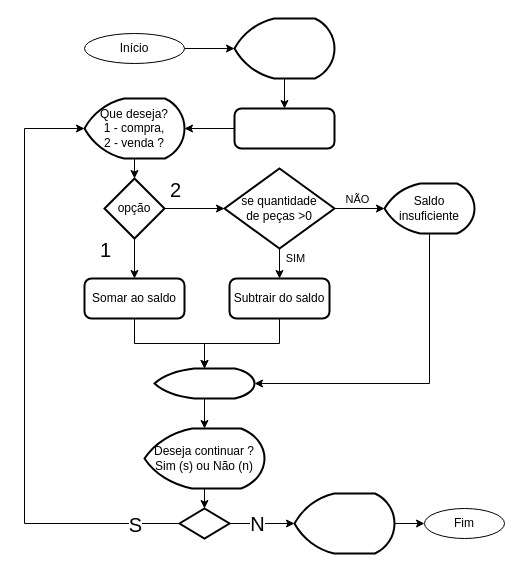
This 522x571 diagram has some shape labels left out. The shapes that lost their labels are listed below. From the top down, each one's centre as x and y in pixels, then its label:
At (284,48): "Informe o saldo inicial da peça".
At (284,128): "Salvar o saldo".
At (204,383): "Exibir saldo".
At (344,523): "Sistema encerrado".
